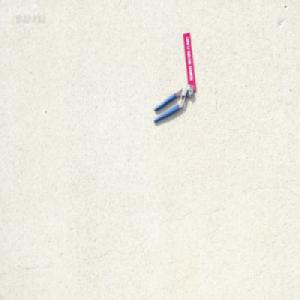Label: (182, 31, 197, 92)
Pliers: (153, 83, 194, 124)
